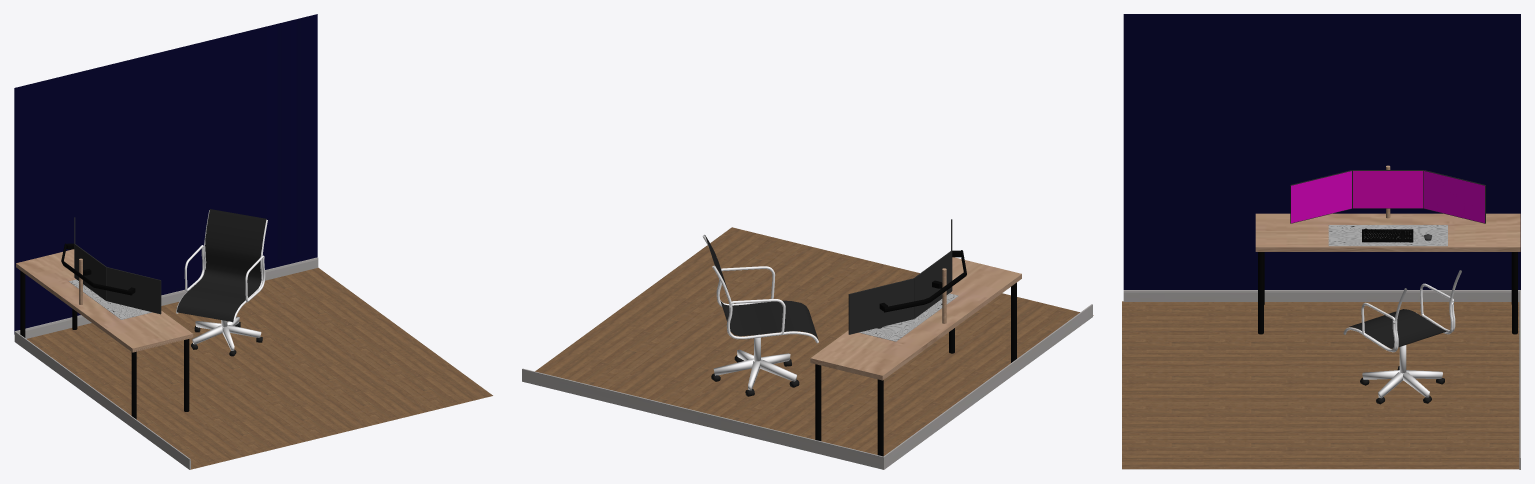
Rendered from Room-transformed.glb.
The picture shows the model from 3 angles, left to right: view 1: azimuth 30°, elevation 25°; view 2: azimuth 150°, elevation 25°; view 3: azimuth 270°, elevation 25°; orthographic projection. The views are drawn at different scales.
Parts seen in each view (by area): view 1: Floor/Walls, Desk, Chair, Base, Mousepad; view 2: Floor/Walls, Desk, Base, Chair, Mousepad; view 3: Floor/Walls, Base, Desk, Mousepad, Chair, Keyboard.
Part boxes in pixels (x1,y1,x2,y2): Floor/Walls: (14, 14, 492, 469); Desk: (16, 243, 193, 419); Chair: (177, 209, 266, 321); Base: (74, 210, 267, 356); Mousepad: (69, 279, 151, 319); Floor/Walls: (522, 227, 1093, 469); Desk: (810, 250, 1021, 456); Base: (702, 219, 952, 396); Chair: (705, 235, 818, 339); Mousepad: (859, 293, 958, 341); Floor/Walls: (1122, 14, 1520, 469); Base: (1290, 170, 1485, 404); Desk: (1255, 165, 1520, 334); Mousepad: (1328, 225, 1447, 246); Chair: (1349, 309, 1447, 348); Keyboard: (1362, 229, 1413, 242).
Bounding box in the file's own units: 3.05 × 2.44 × 3.06.
Materials: 12 (7 with a texture image).
